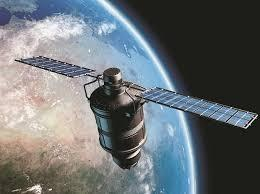body: (87, 66, 149, 172)
solar: (135, 85, 260, 131), (13, 54, 98, 80)
